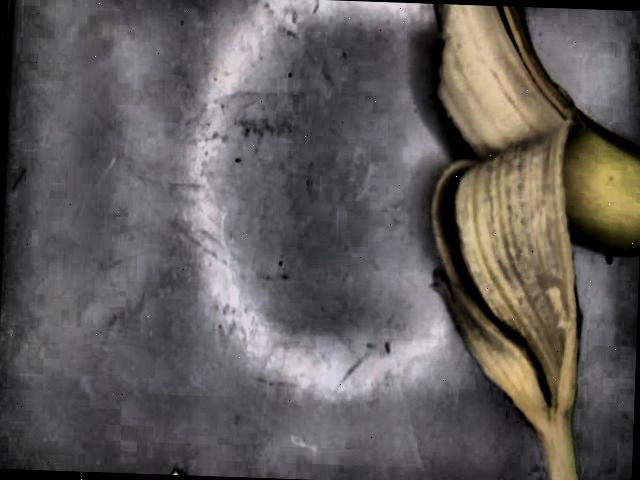Almennt: (431, 4, 640, 480)
